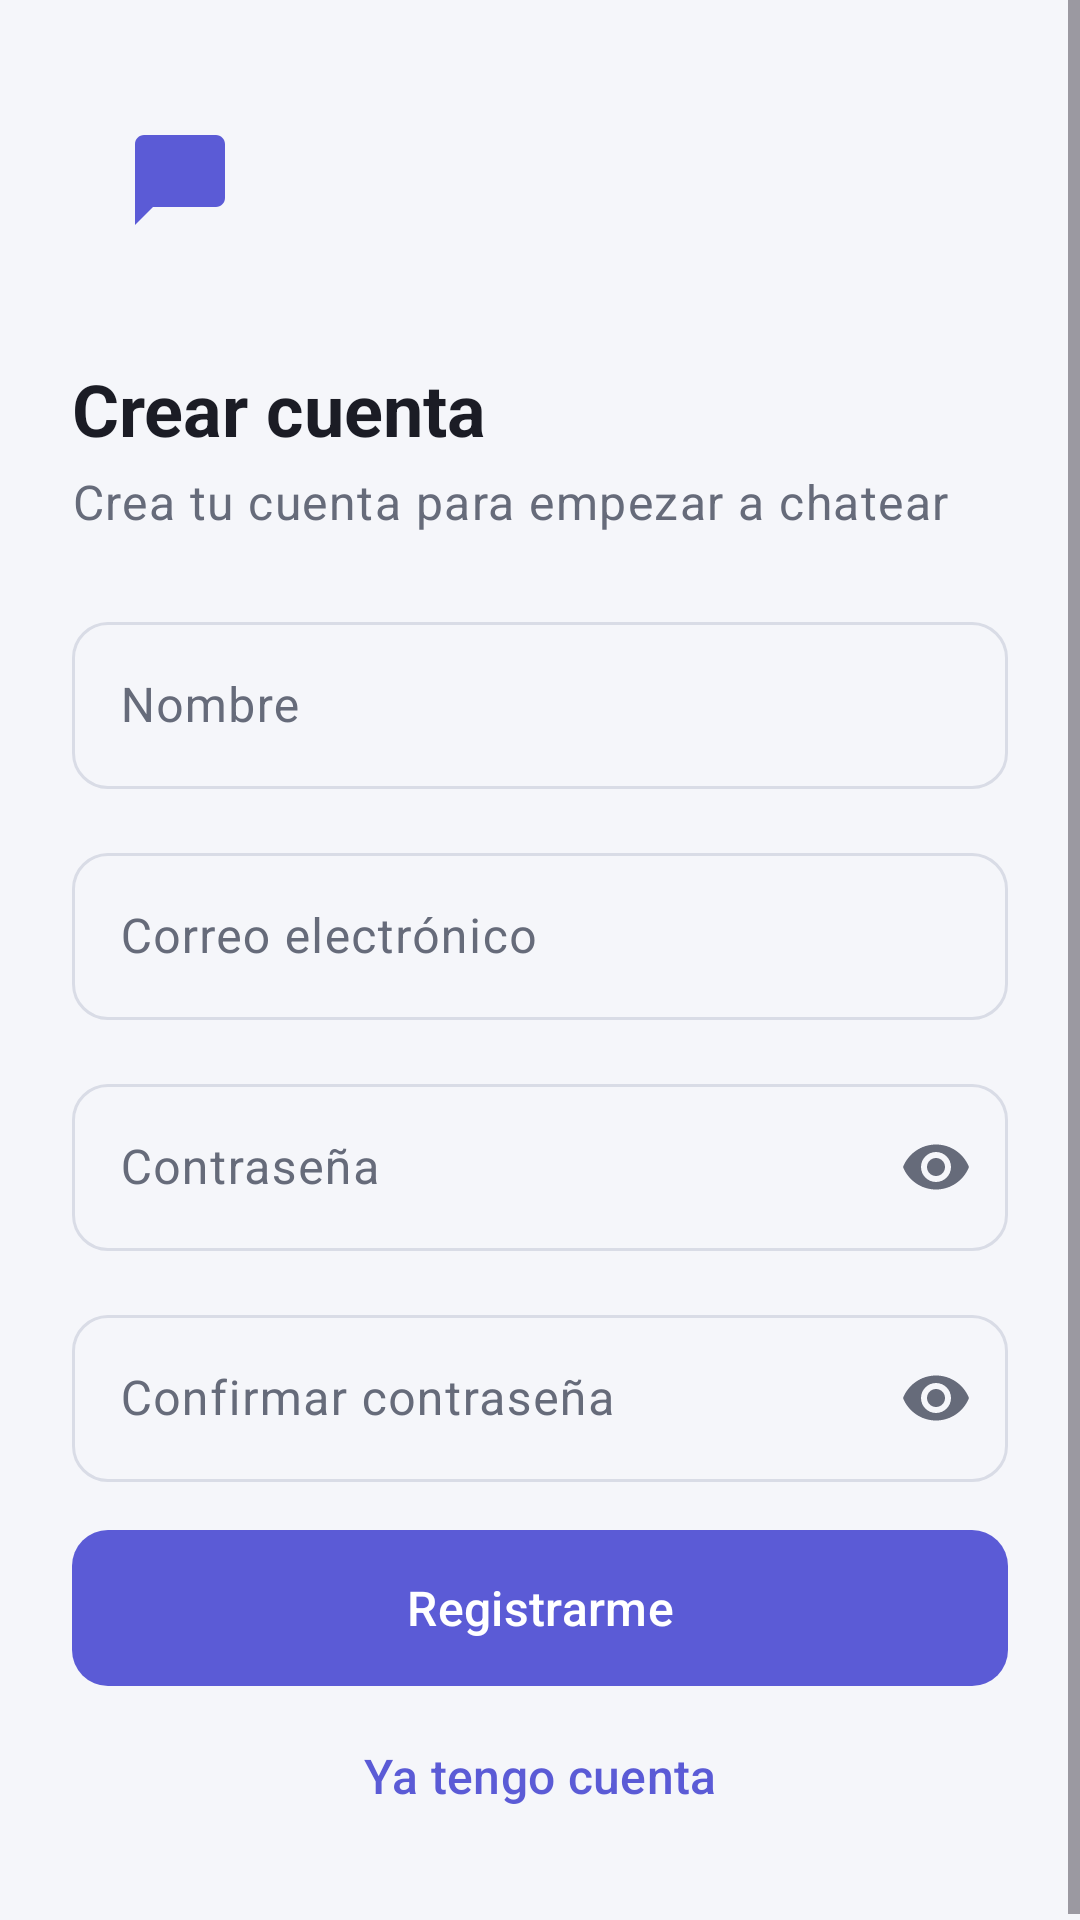

Icons on this 1080px×1920px Android screen, each with its box as detection(x1, y1, x2, y2):
chat: detection(135, 135, 225, 225)
